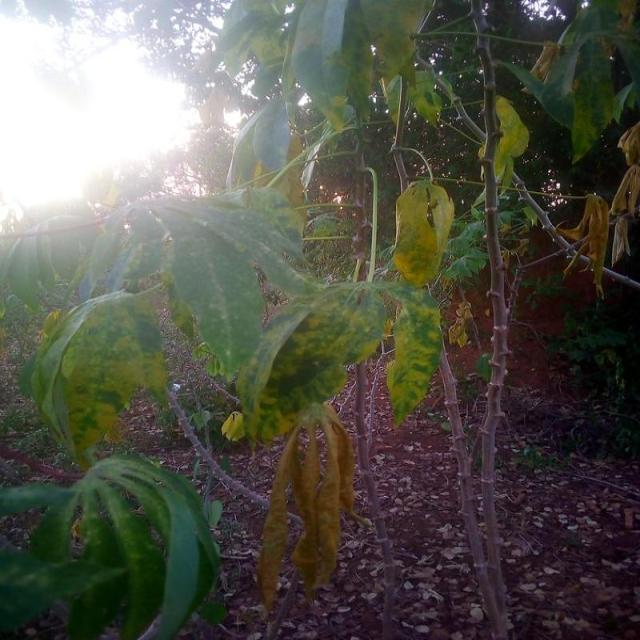cassava leaf: (26, 287, 169, 470), (236, 279, 386, 444), (384, 282, 443, 428), (392, 178, 454, 287), (476, 93, 530, 200)
